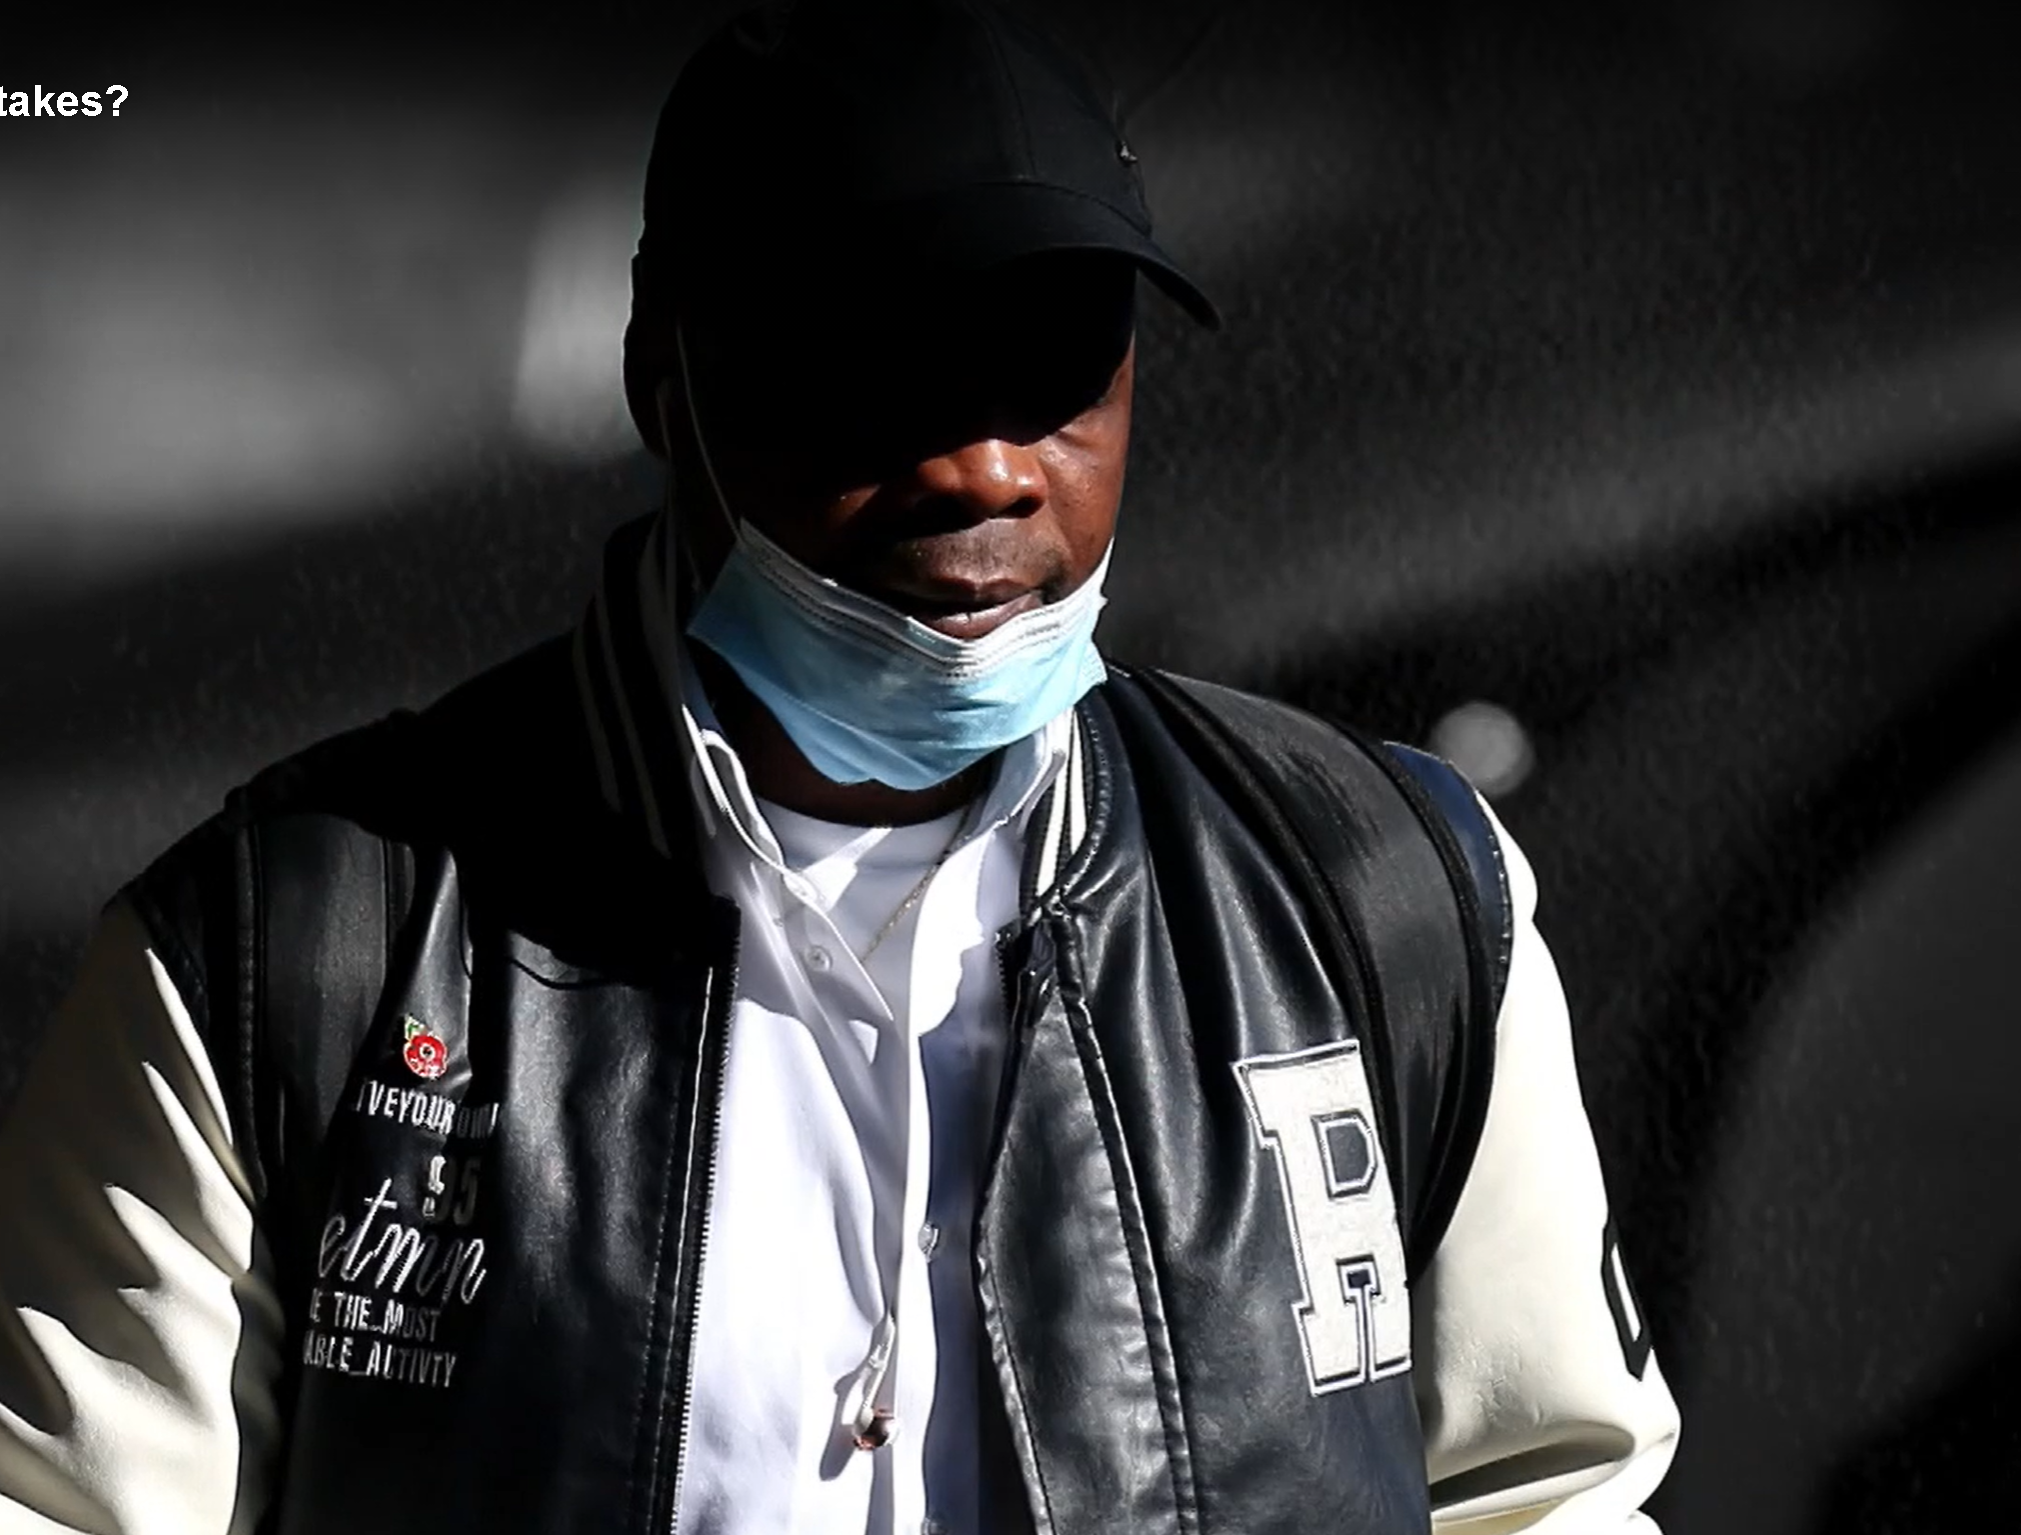mask_weared_incorrect: (669, 281, 1158, 809)
